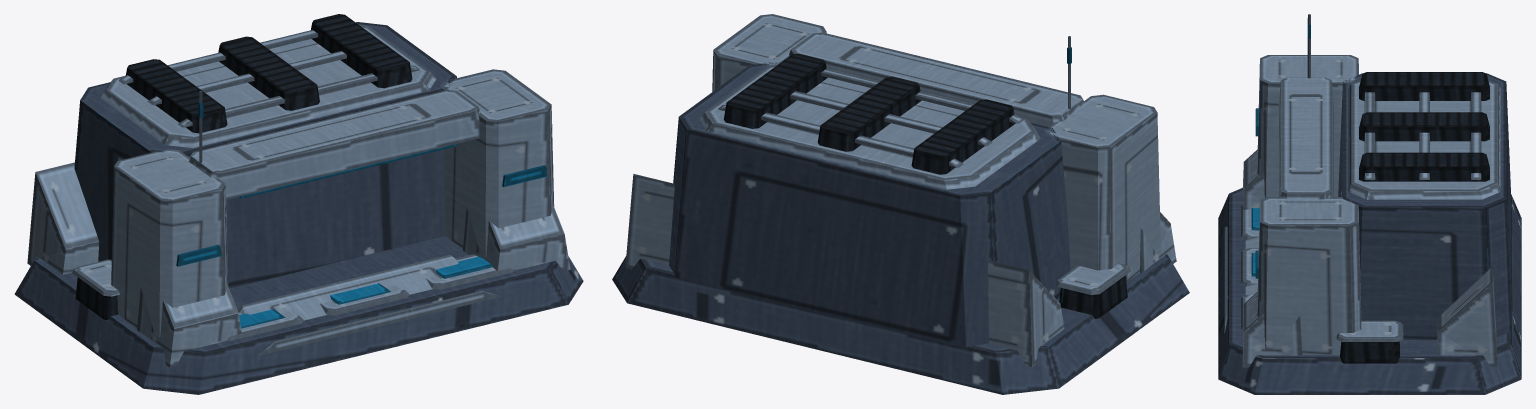
The model's file is building-barracks.fbx.
The picture shows the model from 3 angles, left to right: view 1: azimuth 30°, elevation 25°; view 2: azimuth 150°, elevation 25°; view 3: azimuth 270°, elevation 25°; orthographic projection. The views are drawn at different scales.
Visible parts, largest first — view 1: building-barracks; view 2: building-barracks; view 3: building-barracks.
Boxes of the visible parts, x1=… form: building-barracks: x1=14, y1=14, x2=583, y2=394; building-barracks: x1=612, y1=14, x2=1189, y2=394; building-barracks: x1=1218, y1=14, x2=1521, y2=394.
Bounding box in the file's own units: 2184 × 1200 × 1456.
1 material, 1 textured.
